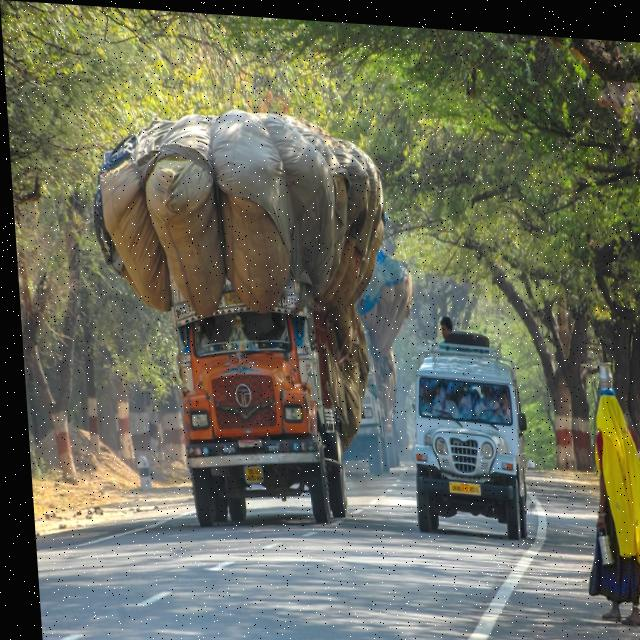plate: (442, 475, 475, 490), (238, 461, 257, 481)
